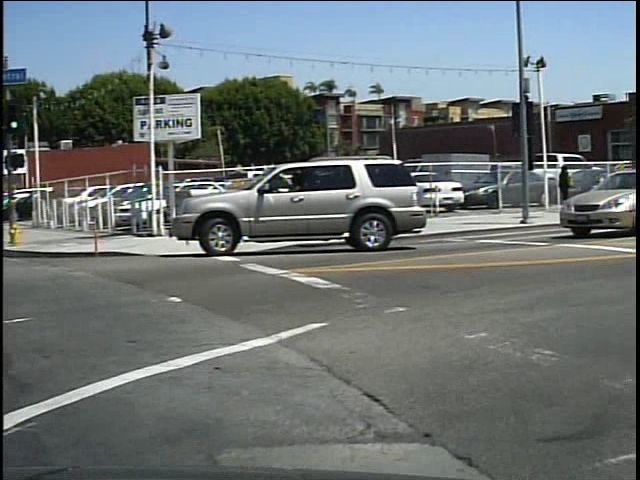person: (558, 161, 581, 216)
